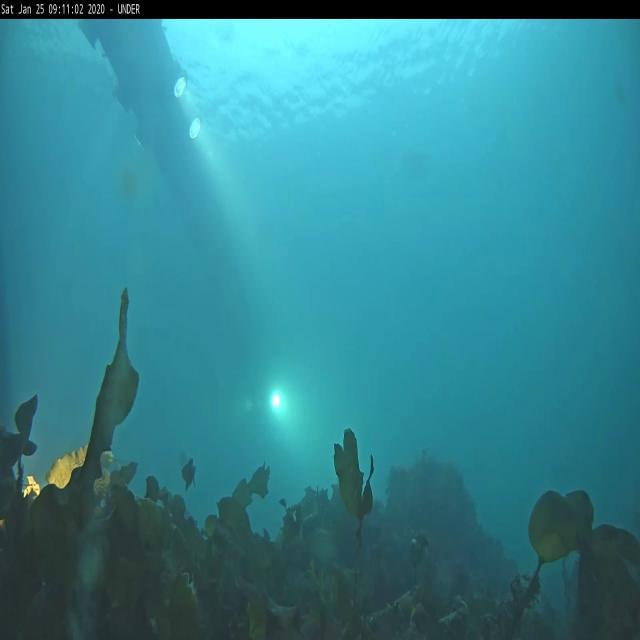fish: (180, 457, 199, 492)
